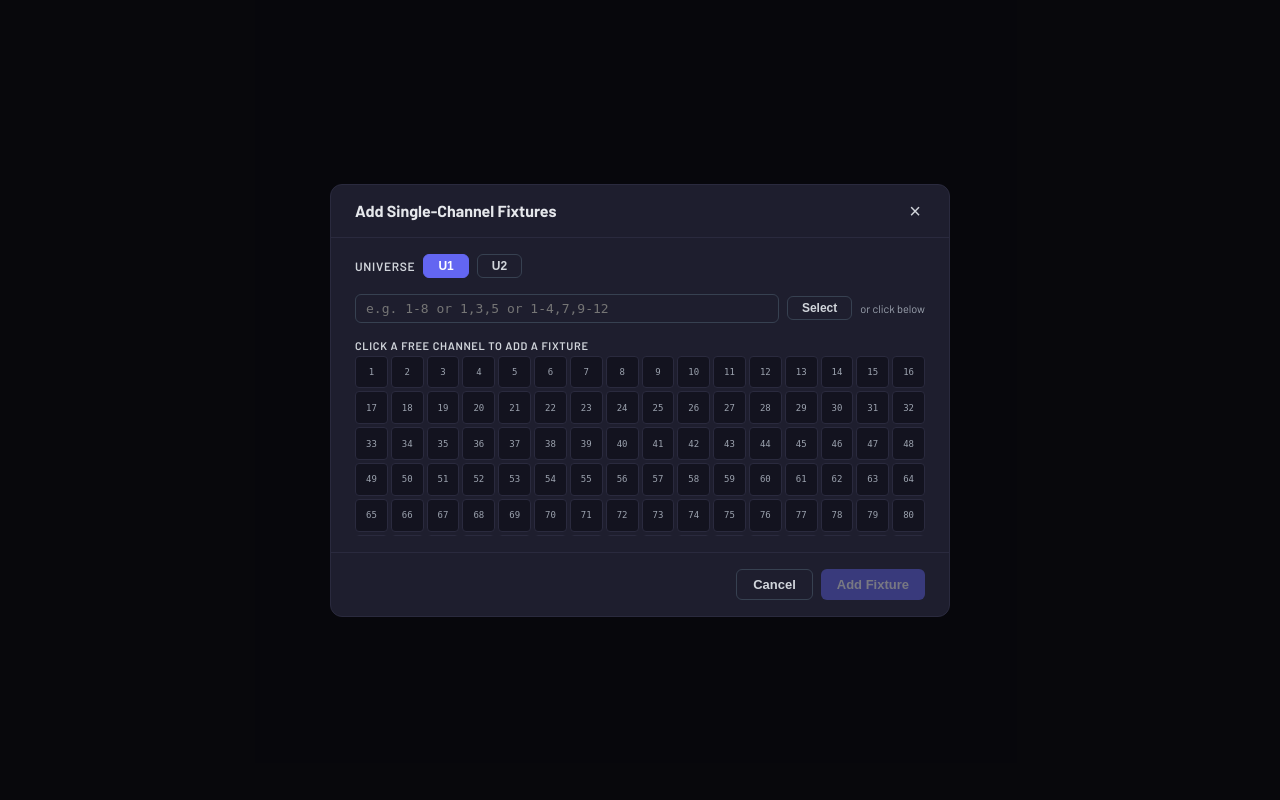
AddSingleChannelFixturesModal › switching universe clears the current selection
The image size is (1280, 800).
Click the text titled "Channel 5". click: x=515, y=372
box: left=498, top=356, right=531, bottom=388
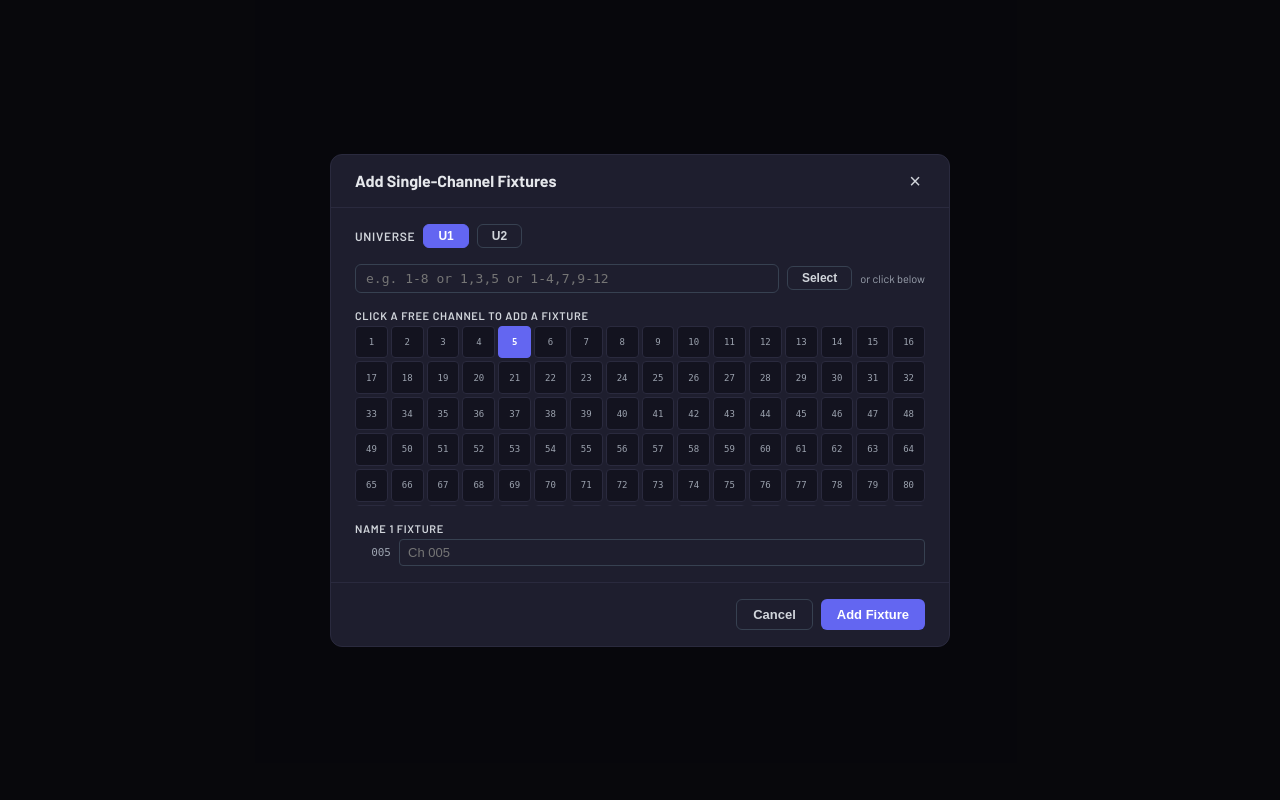
Expected: the button "Add Fixture" is enabled, left=821, top=598, right=925, bottom=630
Click the button "U2". click: x=499, y=236
box: left=477, top=224, right=522, bottom=248
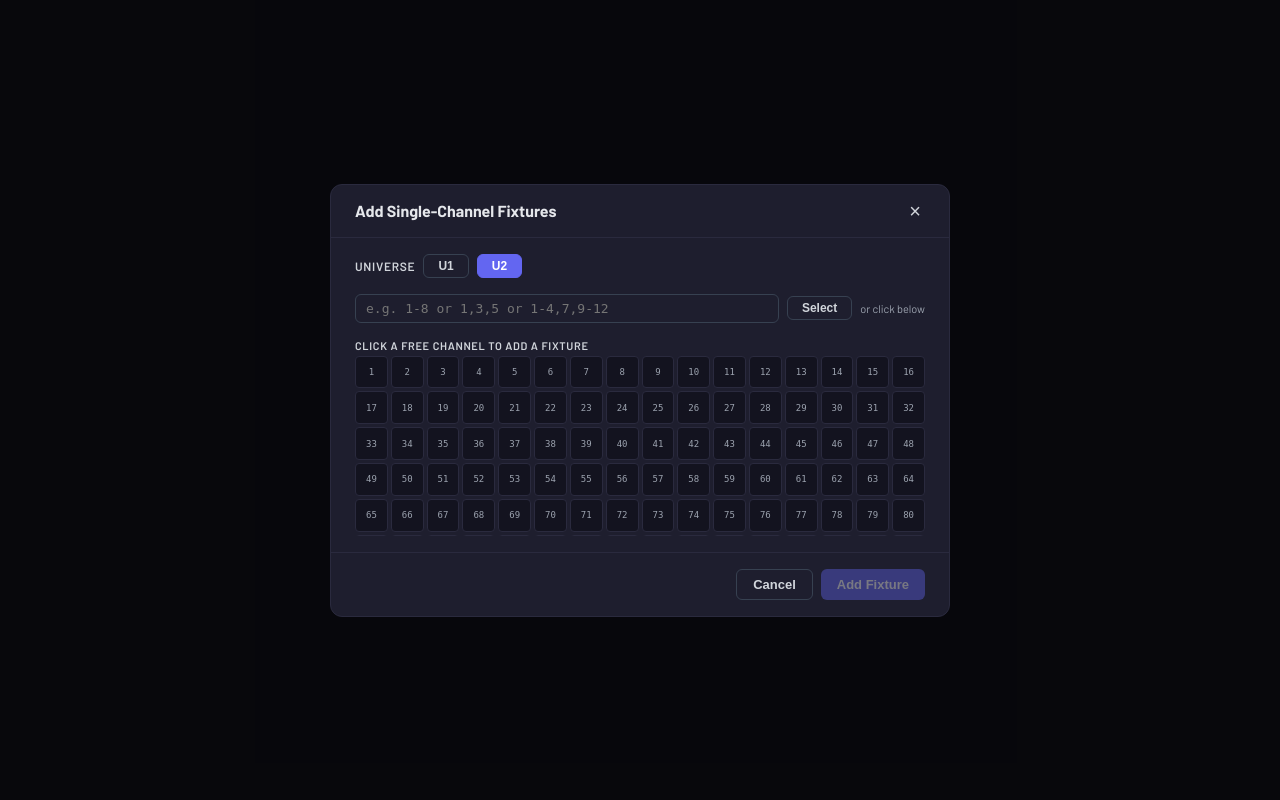
Expected: the button "Add Fixture" is disabled, left=821, top=568, right=925, bottom=600
